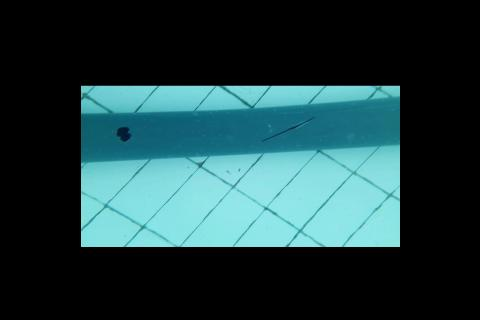kebocoran: (112, 124, 133, 144)
keretakan: (258, 116, 316, 144)
